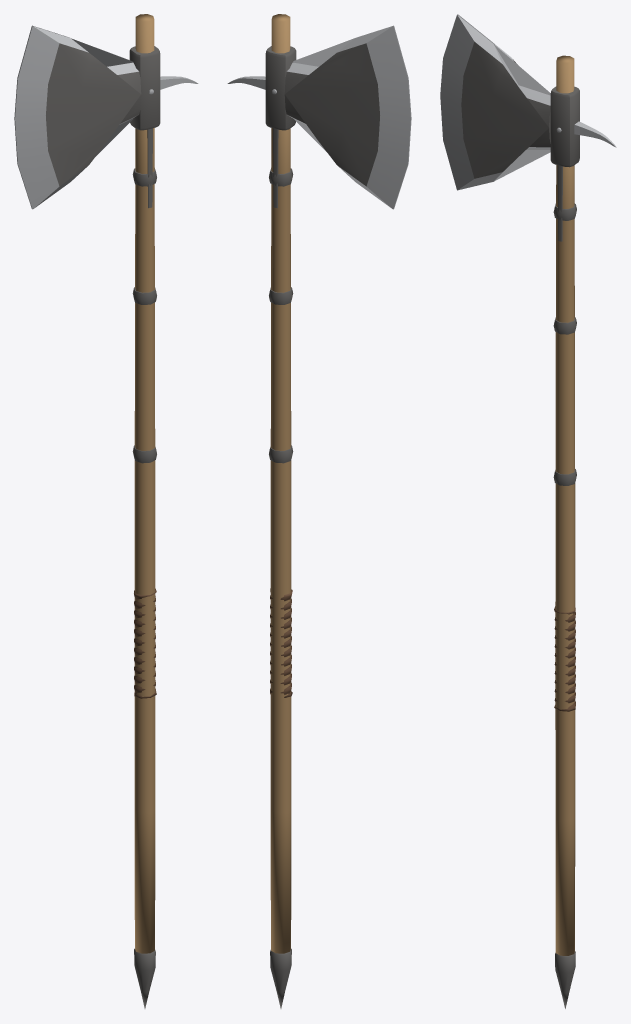
Rendered from dwarven-longaxe.glb.
3 views of the same model, side by side, from view 1: azimuth 30°, elevation 25°; view 2: azimuth 150°, elevation 25°; view 3: azimuth 330°, elevation 25° (orthographic). The views are drawn at different scales.
Parts seen in each view (by area): view 1: dwarven-longaxe; view 2: dwarven-longaxe; view 3: dwarven-longaxe.
Boxes of the visible parts, x1,y1,x2,y2 form: dwarven-longaxe: [14, 14, 198, 1008]; dwarven-longaxe: [227, 14, 411, 1008]; dwarven-longaxe: [440, 14, 616, 1008].
Bounding box in the file's own units: 0.9739 × 5.12 × 0.1357.
